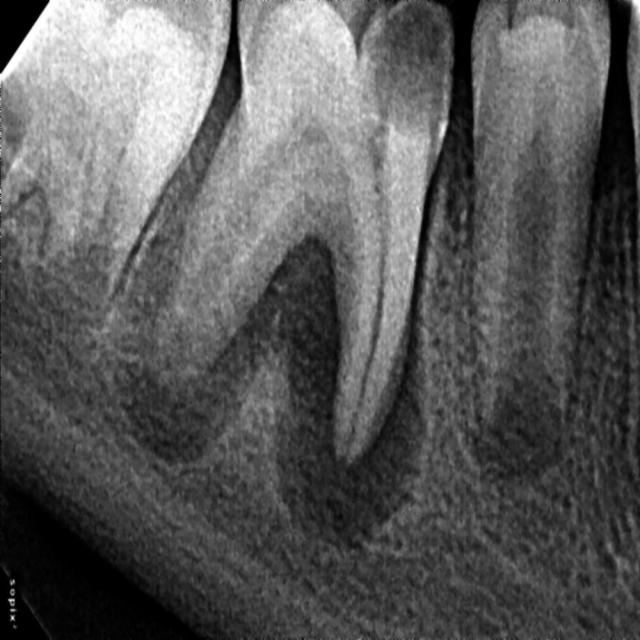Caries: (231, 5, 451, 545)
